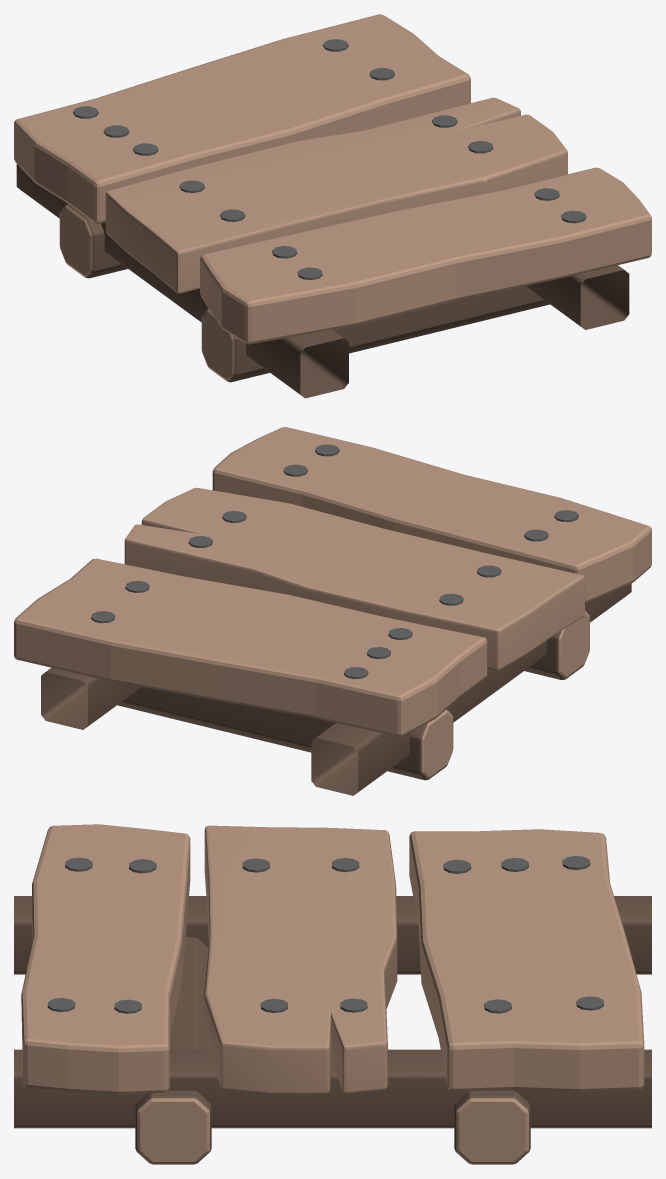
The model's file is a1_mid1_wood_block.fbx.
3 renders of one model, top to bottom at view 1: azimuth 30°, elevation 25°; view 2: azimuth 150°, elevation 25°; view 3: azimuth 270°, elevation 25°, orthographic. The views are drawn at different scales.
Visible parts, largest first — view 1: mid1_wood_block; view 2: mid1_wood_block; view 3: mid1_wood_block.
Boxes of the visible parts, <box> form: mid1_wood_block: <box>14,14,651,398</box>; mid1_wood_block: <box>14,427,651,795</box>; mid1_wood_block: <box>14,824,651,1164</box>.
Bounding box in the file's own units: 1.67 × 0.4742 × 2.
